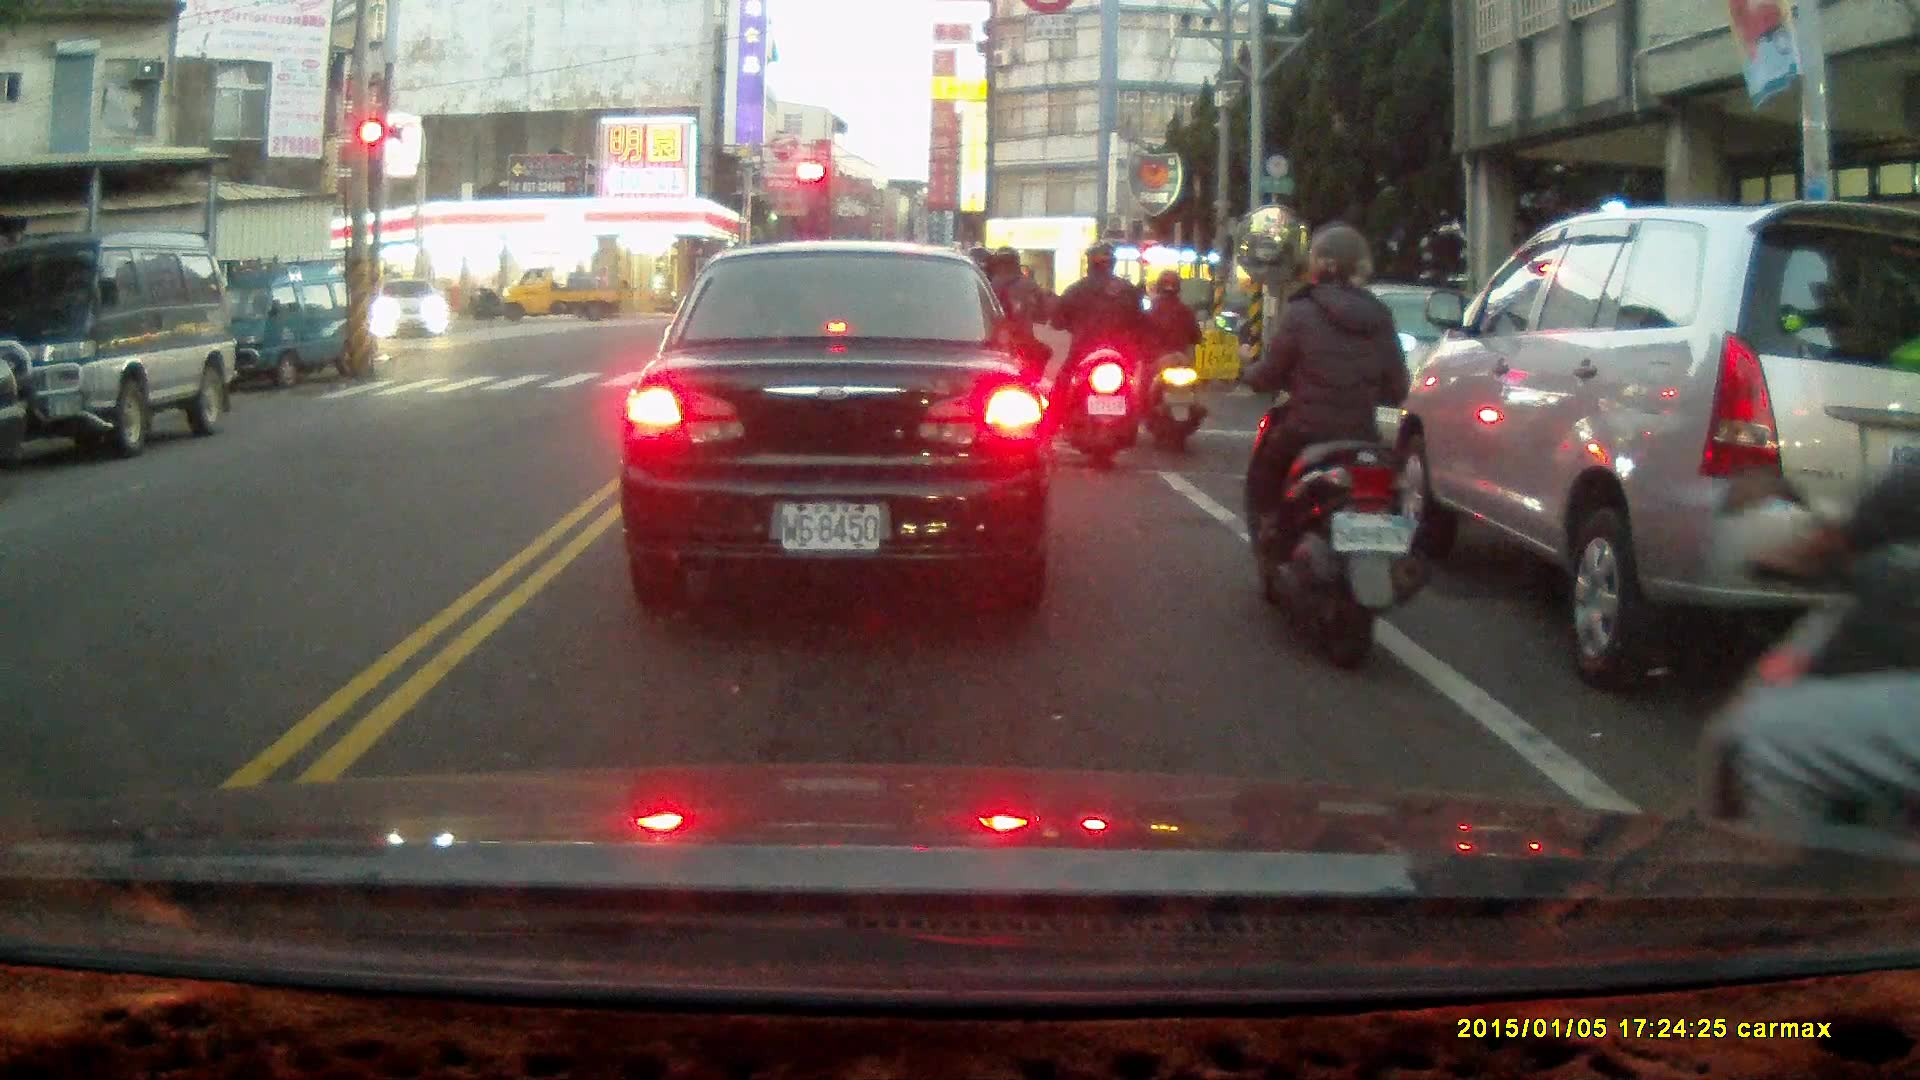rider: (1694, 417, 1920, 900), (1213, 217, 1432, 674), (1048, 243, 1141, 469), (962, 243, 1051, 445), (1134, 269, 1204, 450)
vehicle: (1380, 195, 1920, 685), (617, 243, 1061, 606), (1, 234, 239, 458), (194, 255, 381, 394), (493, 265, 629, 326), (372, 277, 451, 343)
